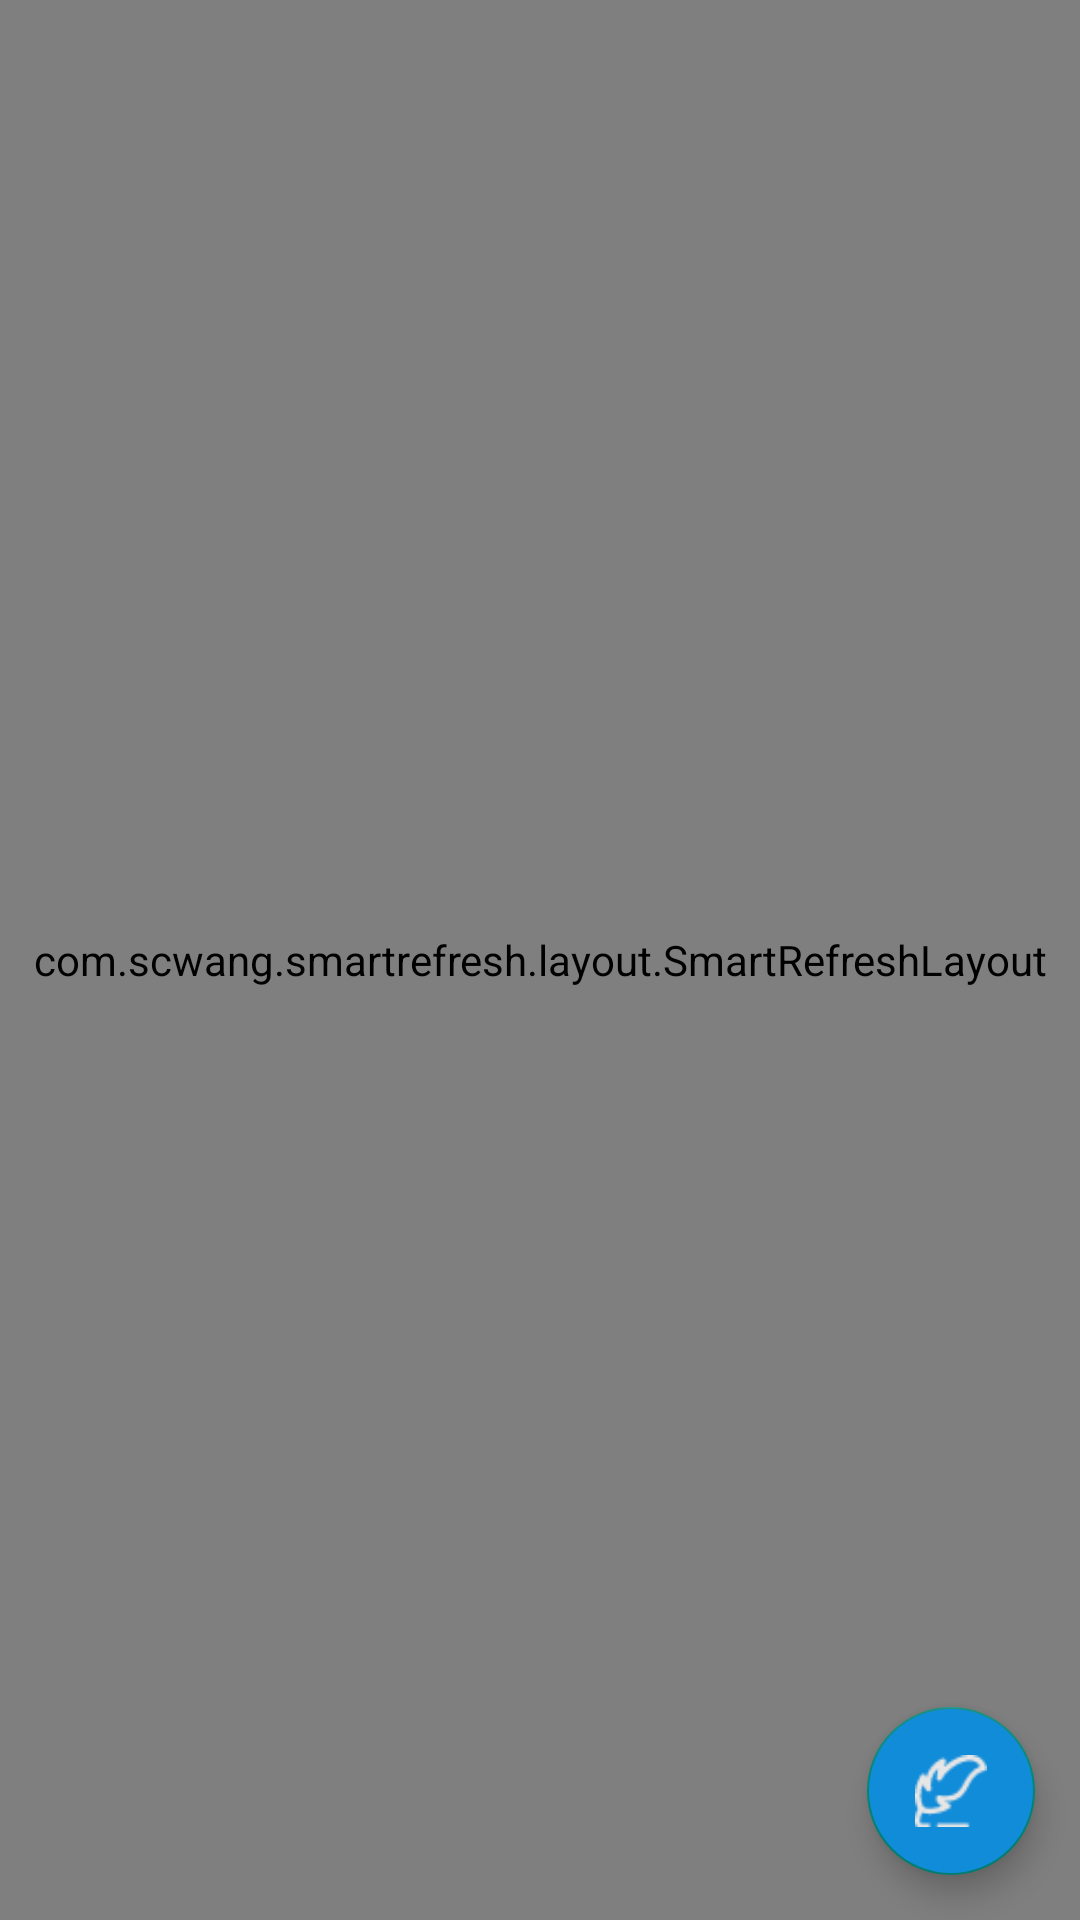

Named icons in this screenshot (1080 × 1920) and their centers, [x,y]:
post add: [951,1791]
